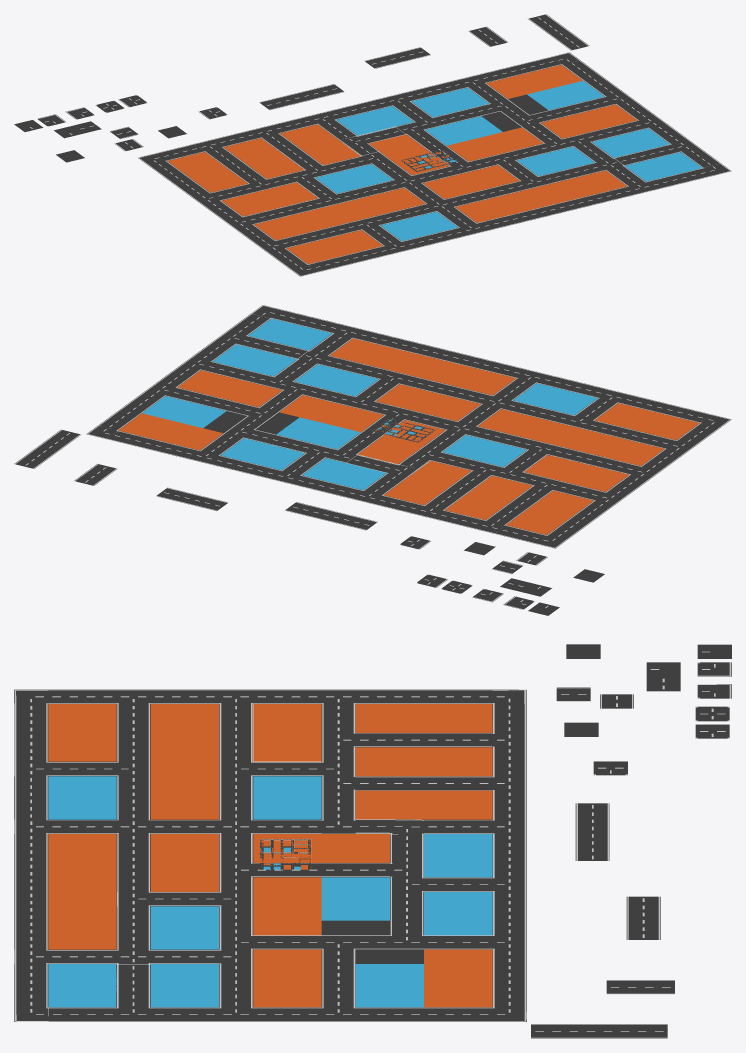
File: drivingMap.glb
3 views of the same model, one above another, from view 1: azimuth 30°, elevation 25°; view 2: azimuth 150°, elevation 25°; view 3: azimuth 270°, elevation 25° (orthographic). The views are drawn at different scales.
Visible parts, largest first — view 1: Grid.001, Grid; view 2: Grid.001, Grid; view 3: Grid.001, Grid.
Boxes of the visible parts, left/top/right/bottom form: Grid.001: left=14, top=14, right=731, bottom=276; Grid: left=401, top=150, right=458, bottom=171; Grid.001: left=14, top=305, right=731, bottom=615; Grid: left=372, top=418, right=435, bottom=442; Grid.001: left=14, top=644, right=731, bottom=1038; Grid: left=260, top=839, right=311, bottom=872.
Size of the model in its own units: 27.27 by 0.0279 by 21.01.
